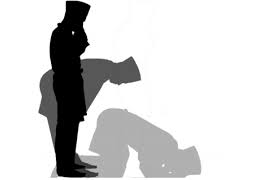ruku: (39, 50, 145, 162)
